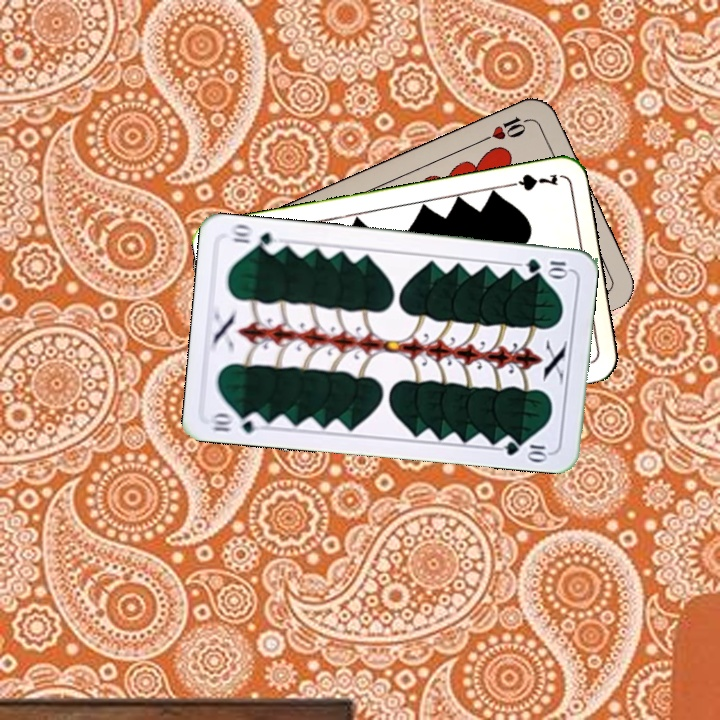G10: (207, 408, 267, 436), (521, 255, 572, 279)
G7: (501, 170, 561, 194)
H10: (478, 112, 535, 145)
